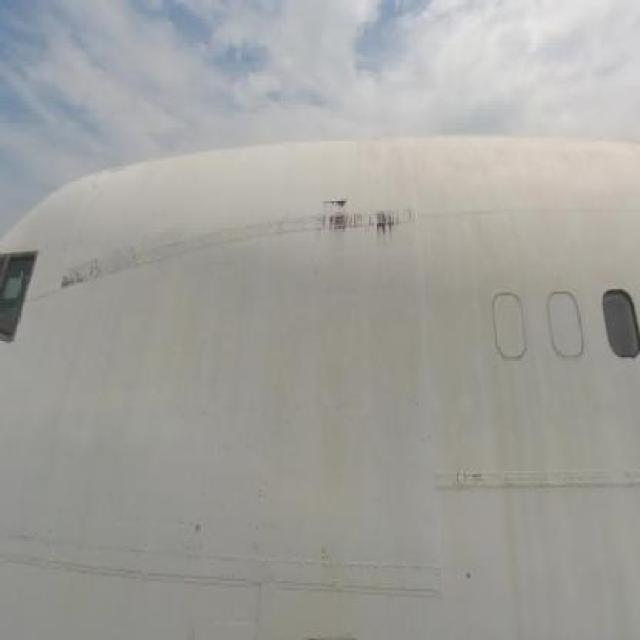Rust: (313, 182, 416, 252)
Scartch: (53, 253, 107, 307)
